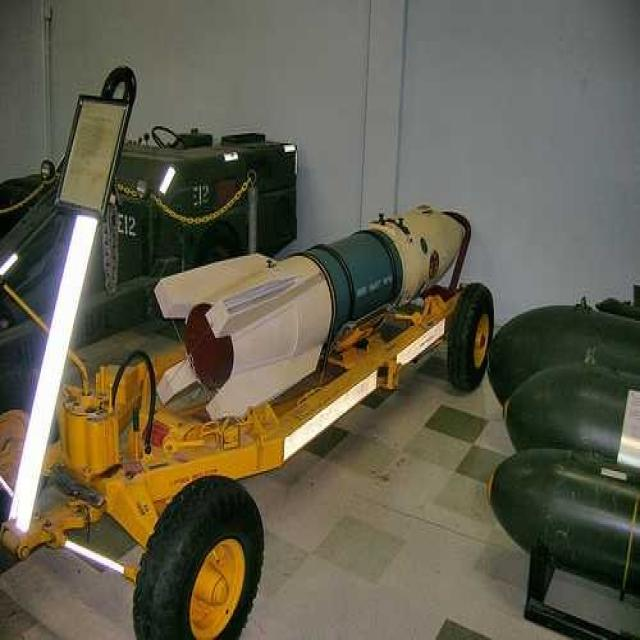missile: (155, 203, 469, 419)
